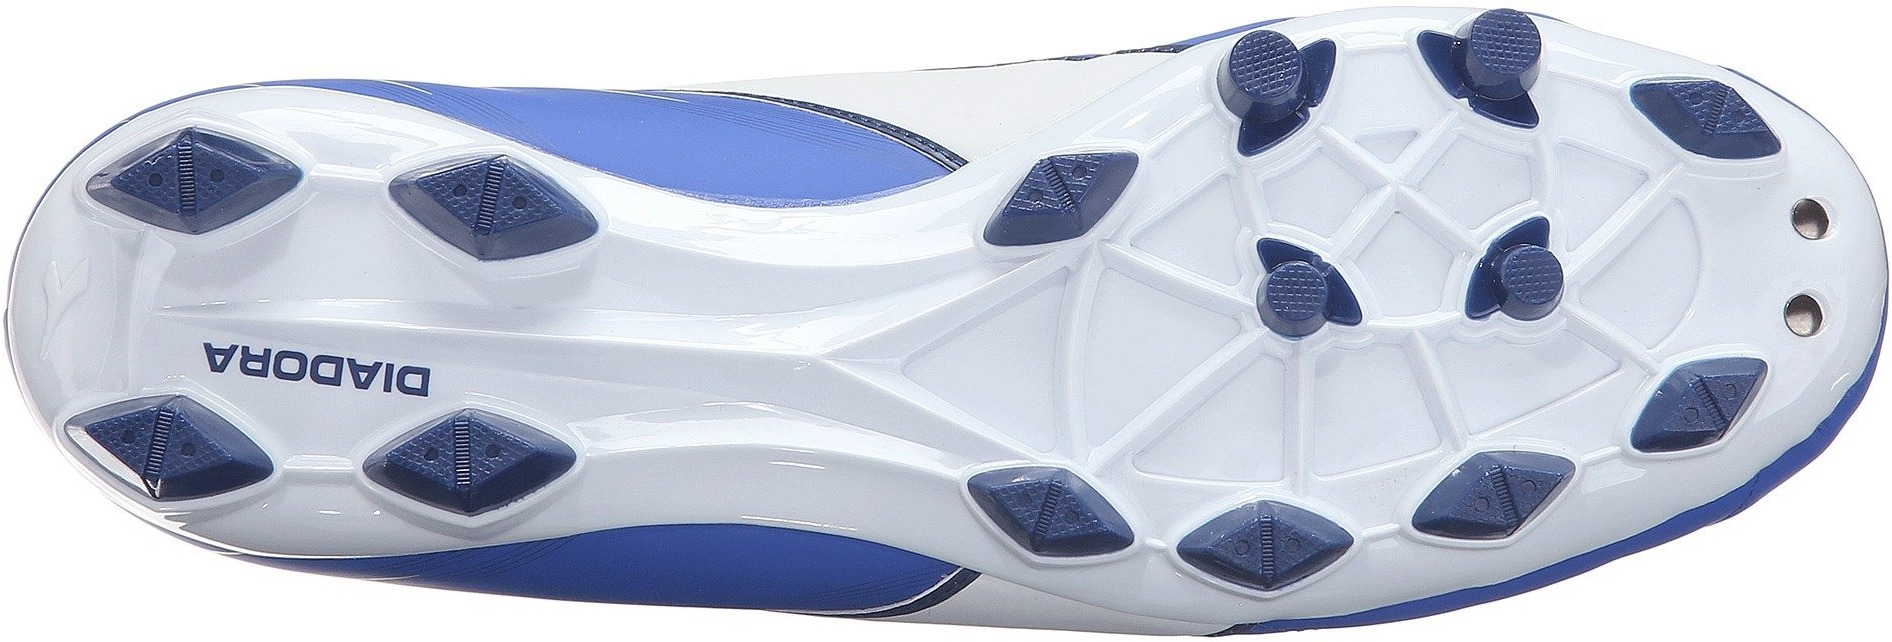chevron: (8, 253, 121, 361)
circle: (351, 320, 605, 530), (64, 111, 305, 264), (357, 396, 594, 535), (43, 375, 265, 523), (965, 119, 1170, 279), (1176, 463, 1360, 625), (1490, 229, 1582, 322), (1256, 257, 1341, 332), (1768, 284, 1836, 350), (1779, 185, 1844, 252)
line: (665, 250, 933, 488)
polygon: (1300, 168, 1487, 335)
quad: (351, 320, 605, 530), (64, 111, 305, 264), (357, 396, 594, 535), (43, 375, 265, 523), (965, 119, 1170, 279), (1176, 463, 1360, 625), (344, 342, 433, 424), (270, 333, 352, 405)
text: (344, 342, 433, 424), (270, 333, 352, 405), (195, 327, 279, 391)
triangle: (64, 111, 305, 264), (357, 396, 594, 535), (43, 375, 265, 523), (965, 119, 1170, 279), (1534, 123, 1675, 256), (344, 342, 433, 424), (195, 327, 279, 391)
